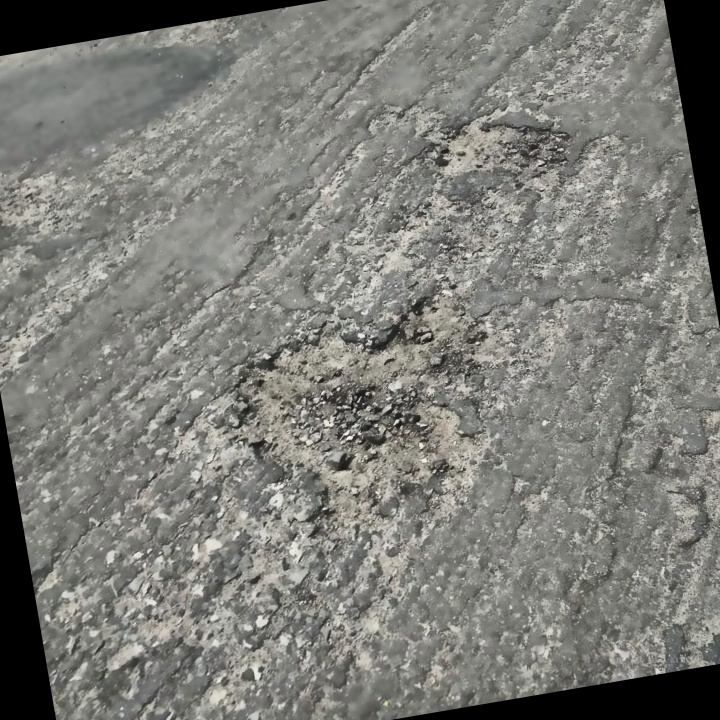pothole: (222, 281, 508, 543), (425, 95, 582, 192)
